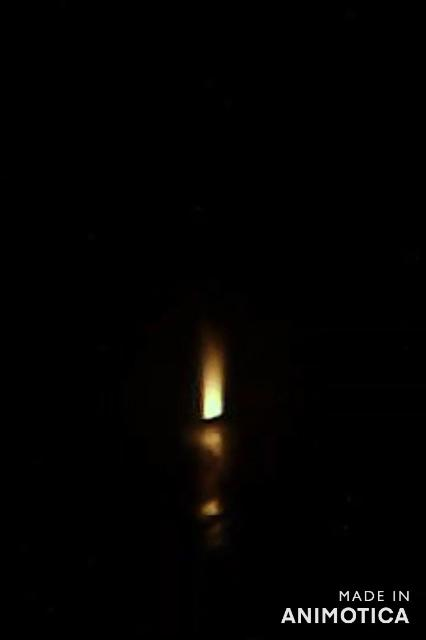burner flame: (196, 331, 229, 422)
